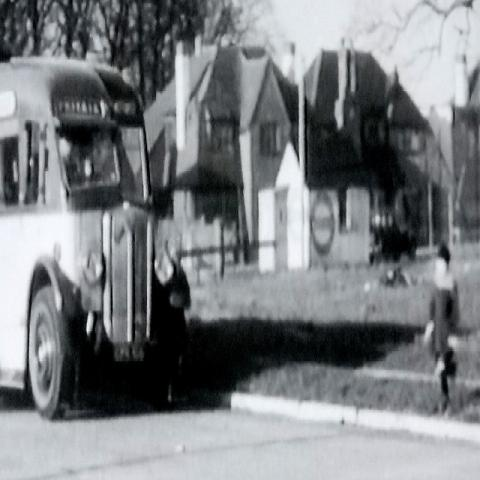bus: (0, 52, 156, 424)
